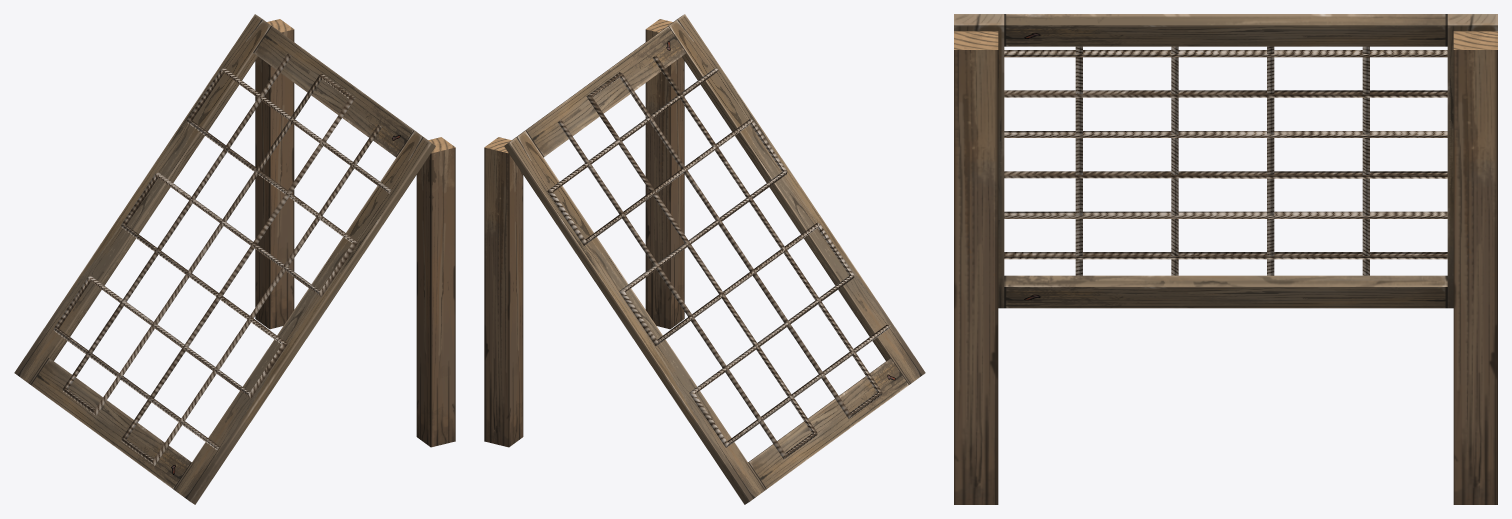
File: trellis06.fbx
3 renders of one model, left to right at view 1: azimuth 30°, elevation 25°; view 2: azimuth 150°, elevation 25°; view 3: azimuth 270°, elevation 25°, orthographic. The views are drawn at different scales.
Parts seen in each view (by area): view 1: trellis06; view 2: trellis06; view 3: trellis06.
Part boxes in pixels (x1,y1,x2,y2): trellis06: (14, 14, 455, 504); trellis06: (484, 14, 925, 504); trellis06: (954, 14, 1497, 504).
Bounding box in the file's own units: 114 × 124 × 130.
